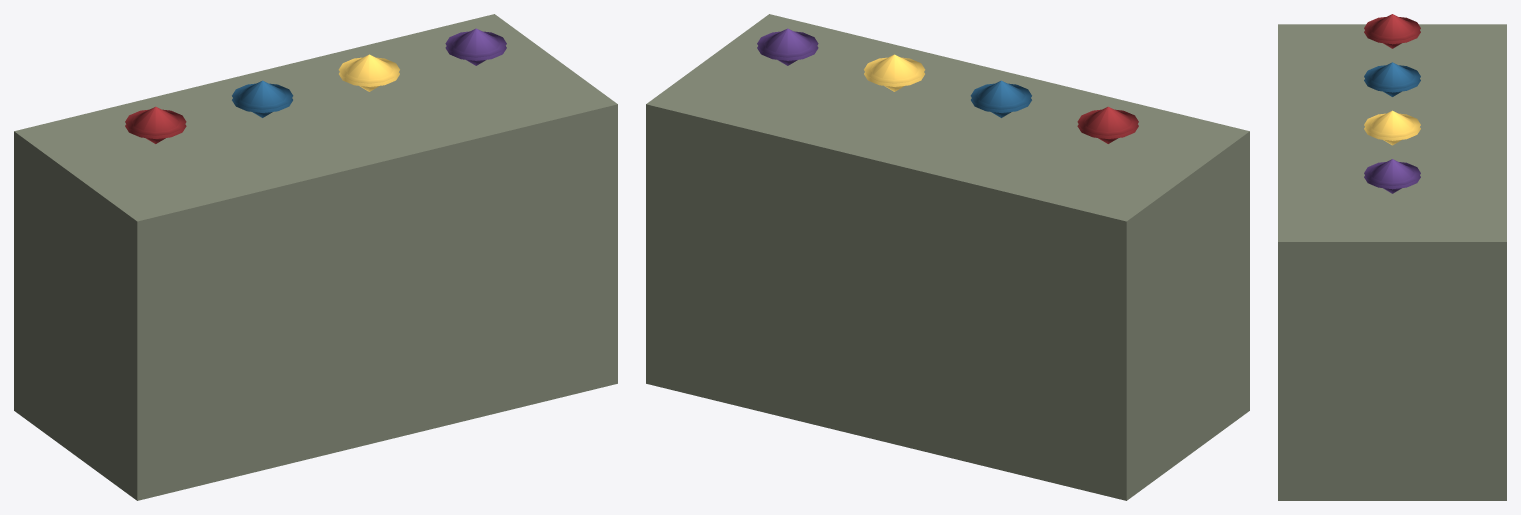
The model's file is sun_controls.glb.
The picture shows the model from 3 angles, left to right: view 1: azimuth 30°, elevation 25°; view 2: azimuth 150°, elevation 25°; view 3: azimuth 270°, elevation 25°; orthographic projection. The views are drawn at different scales.
Parts seen in each view (by area): view 1: console, crystal_upper (×4); view 2: console, crystal_upper (×4); view 3: console, crystal_upper (×4), crystal_lower (×4).
Part boxes in pixels (x1,y1,x2,y2): console: (14,14,617,500); crystal_upper (×4): (125,28,506,138); console: (646,14,1249,500); crystal_upper (×4): (757,28,1138,138); console: (1278,24,1506,500); crystal_upper (×4): (1364,14,1420,189); crystal_lower (×4): (1364,17,1420,193).
Bounding box in the file's own units: 1.8 × 1.18 × 0.8.
